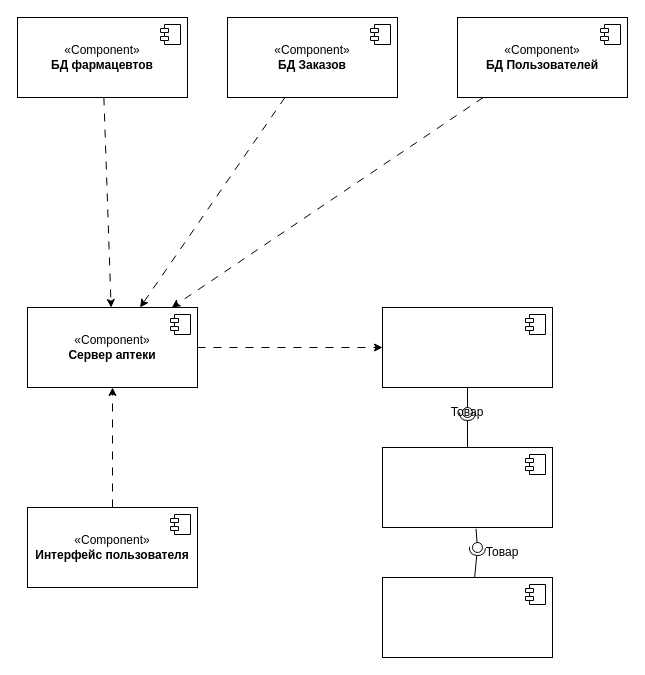
This 645x675 diagram has some shape labels left out. The shapes that lost their labels are listed below. From the top down, each one's box as (x1, y1, x2, y2) in pixels, then its label:
(382, 306, 552, 388): «Component» АМР Фармацевта
(382, 446, 552, 528): «Component» Заказ
(382, 576, 552, 658): «Component» Товар
